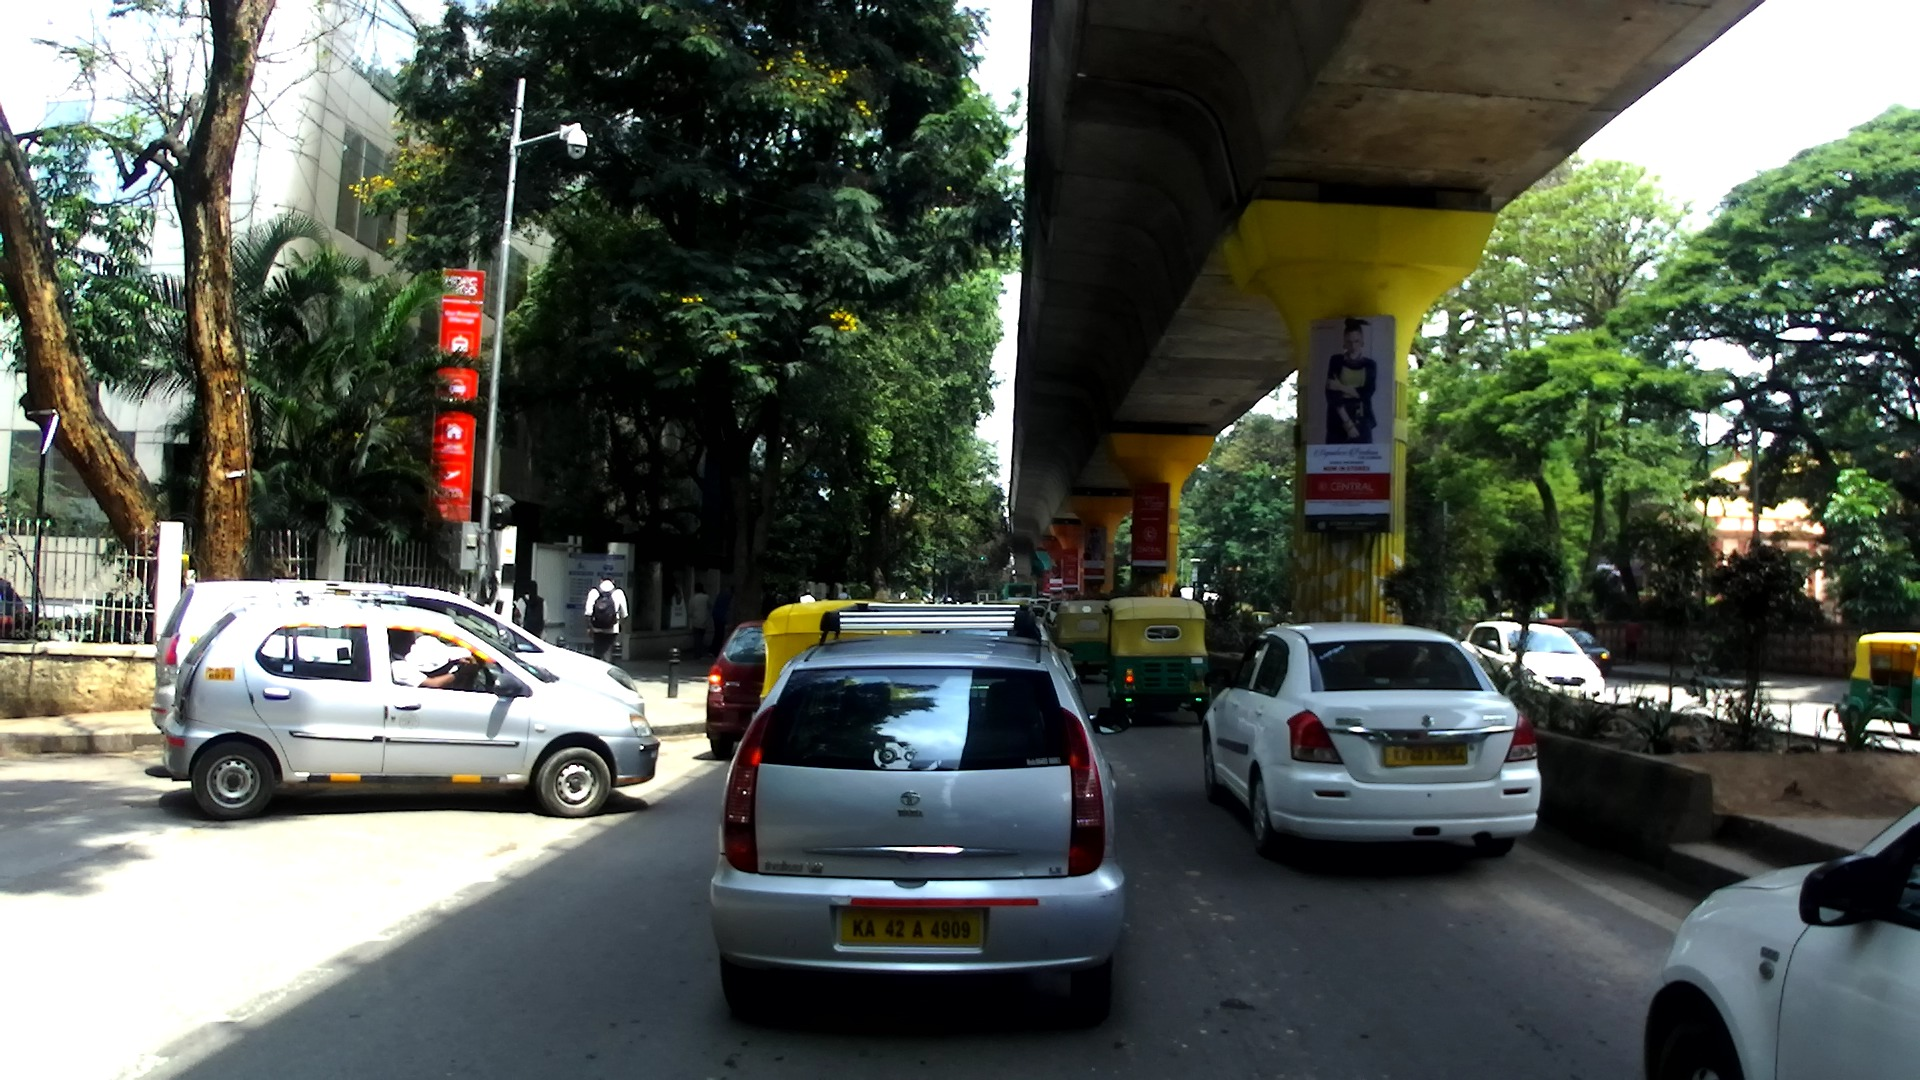autorickshaw: (759, 599, 897, 713), (1103, 597, 1212, 726), (1842, 632, 1920, 739), (1056, 599, 1126, 683)
bus: (1000, 579, 1036, 601)
car: (705, 602, 1133, 1024), (161, 600, 660, 819), (1203, 621, 1545, 860), (1639, 799, 1920, 1080), (149, 581, 638, 732), (1461, 621, 1606, 702), (704, 620, 780, 755), (1562, 628, 1613, 675), (1250, 611, 1281, 632), (1028, 605, 1051, 630), (1046, 600, 1064, 626), (1027, 598, 1051, 611)
person: (586, 567, 631, 675), (685, 580, 715, 667), (709, 581, 742, 658), (517, 580, 547, 647), (759, 581, 791, 624), (1625, 614, 1642, 668), (800, 589, 816, 605), (838, 587, 851, 599), (821, 592, 833, 602)
rider: (939, 593, 955, 604)
traffic light: (973, 555, 987, 561)
truck: (972, 591, 998, 606)
vehicle fallback: (1181, 585, 1217, 605)
